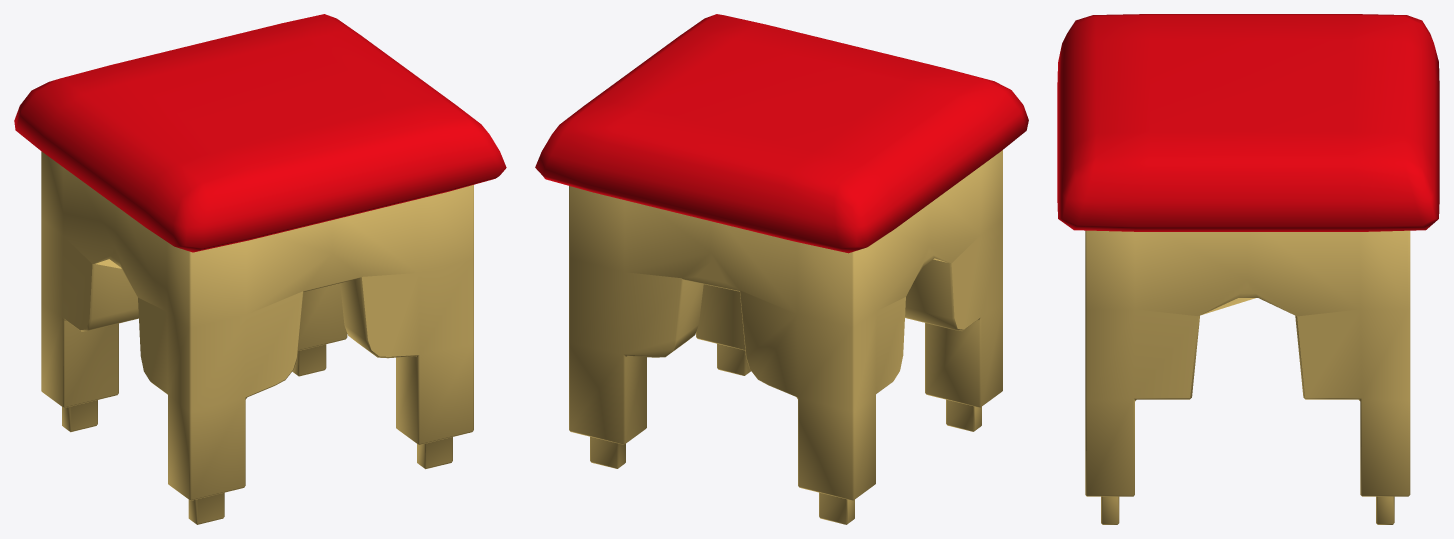
File: Chaise_00.fbx
3 views of the same model, side by side, from view 1: azimuth 30°, elevation 25°; view 2: azimuth 150°, elevation 25°; view 3: azimuth 270°, elevation 25° (orthographic). The views are drawn at different scales.
Visible parts, largest first — view 1: chaise_00; view 2: chaise_00; view 3: chaise_00.
Boxes of the visible parts, bbox=[...] form: chaise_00: bbox=[14, 14, 506, 524]; chaise_00: bbox=[535, 14, 1028, 524]; chaise_00: bbox=[1057, 14, 1439, 524].
Size of the model in its own units: 1.22 by 1.23 by 1.13.
